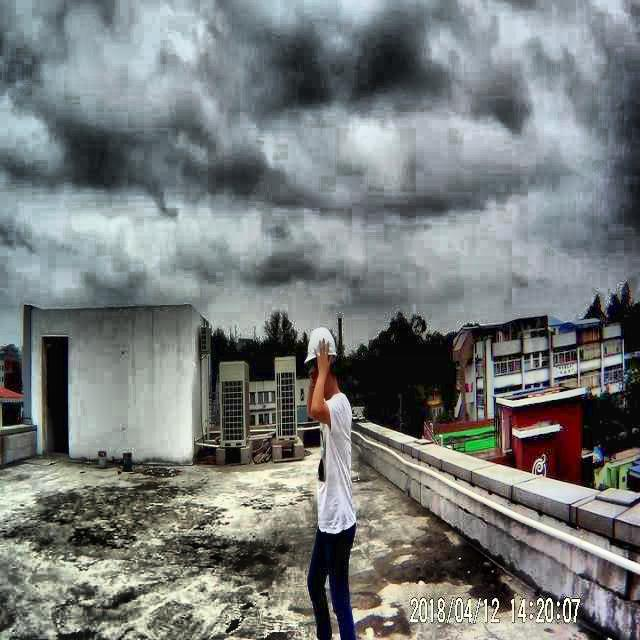person: (298, 320, 386, 640)
